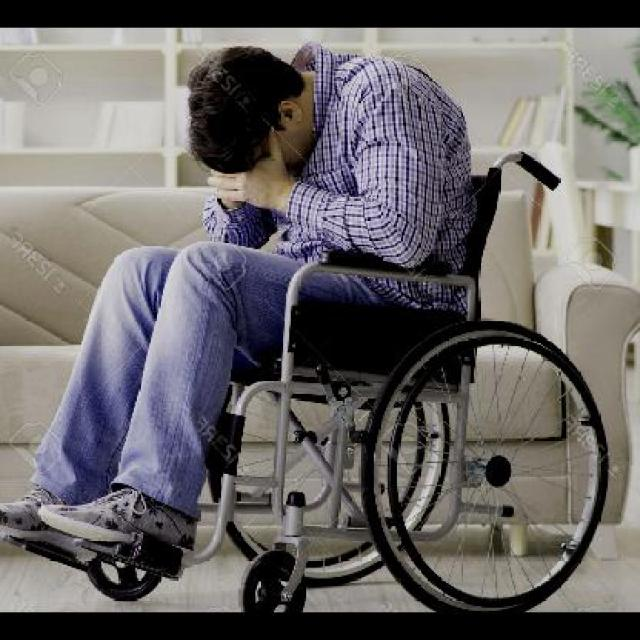wheelchairs: (5, 104, 608, 613)
